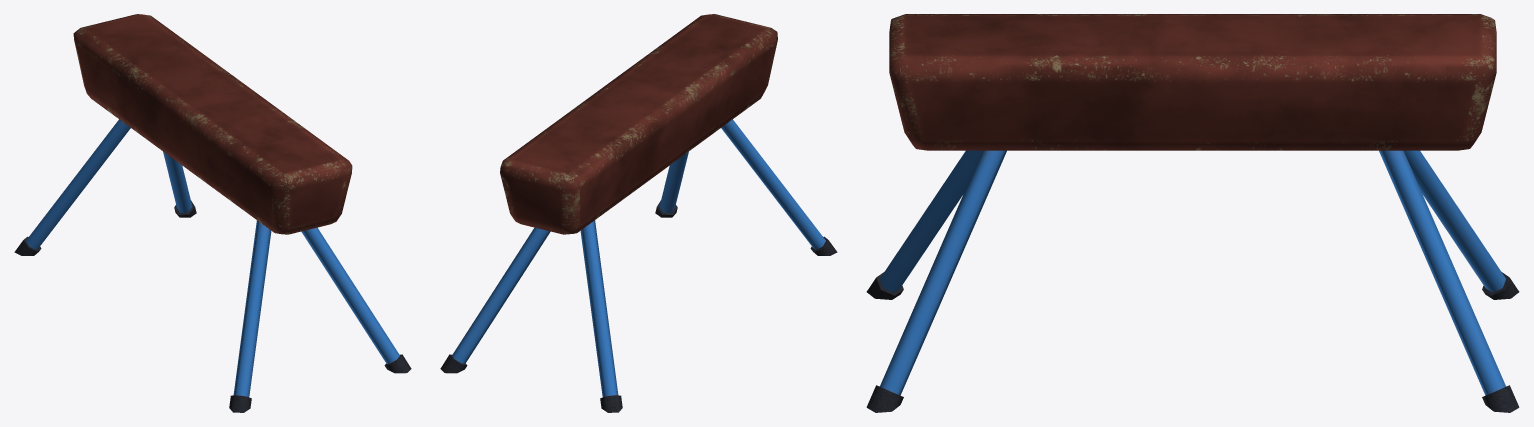
The model's file is mesh_horse.FBX.
3 renders of one model, left to right at view 1: azimuth 30°, elevation 25°; view 2: azimuth 150°, elevation 25°; view 3: azimuth 270°, elevation 25°, orthographic. The views are drawn at different scales.
Visible parts, largest first — view 1: mesh_horse; view 2: mesh_horse; view 3: mesh_horse.
Part boxes in pixels (left/top/right/bottom): mesh_horse: left=14, top=14, right=411, bottom=412; mesh_horse: left=440, top=14, right=837, bottom=412; mesh_horse: left=866, top=14, right=1519, bottom=412.
Size of the model in its own units: 0.777 by 0.9 by 1.7.
1 material, 1 textured.
